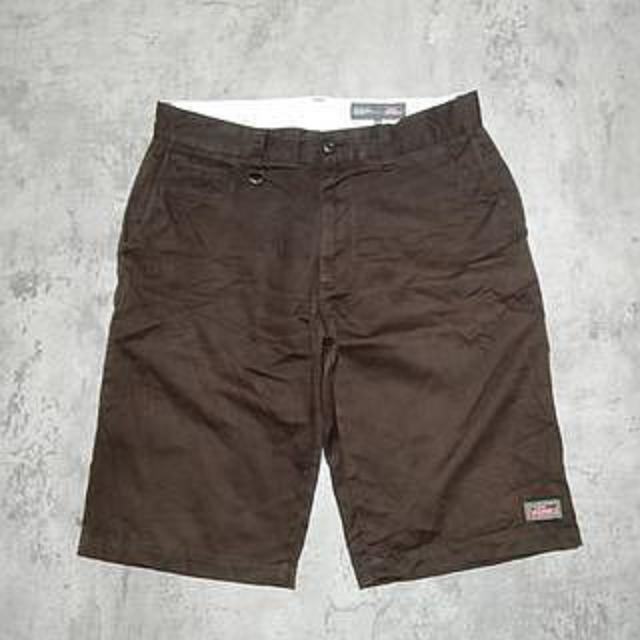TROUSER: (71, 81, 596, 596)
